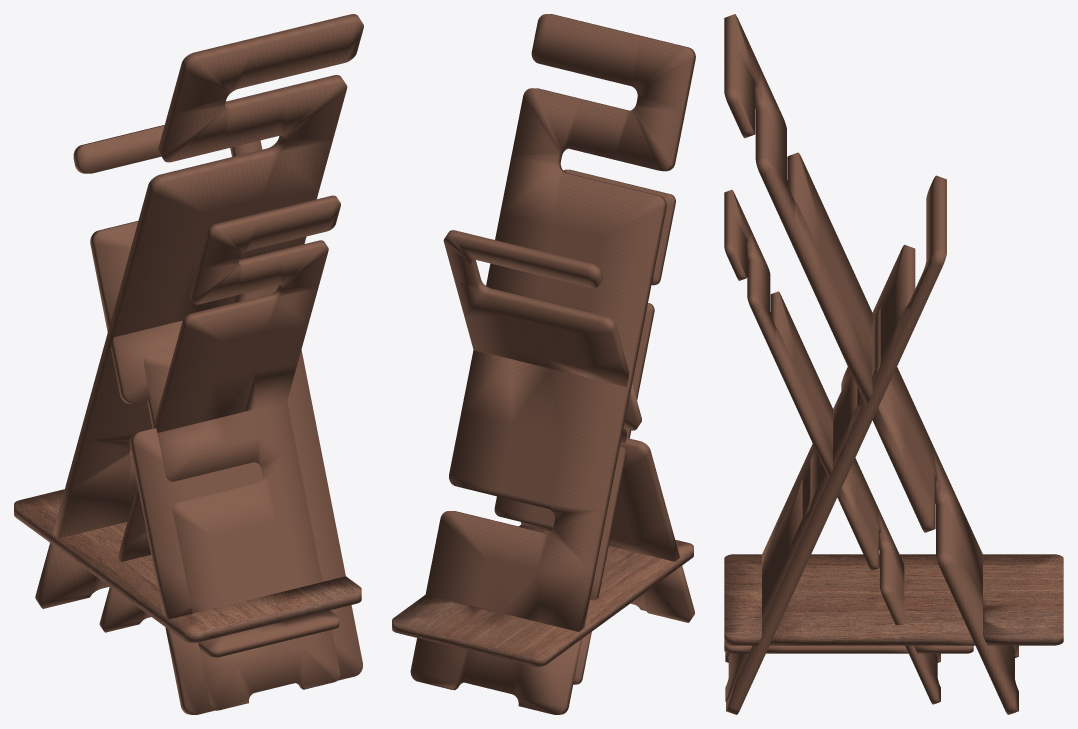
File: panieboze2.glb
The picture shows the model from 3 angles, left to right: view 1: azimuth 30°, elevation 25°; view 2: azimuth 150°, elevation 25°; view 3: azimuth 270°, elevation 25°; orthographic projection. The views are drawn at different scales.
Parts seen in each view (by area): view 1: bake, servomuto obj.001; view 2: bake, servomuto obj.001; view 3: bake, servomuto obj.001.
Boxes of the visible parts, <box> form: bake: <box>14,14,363,714</box>; servomuto obj.001: <box>99,195,340,710</box>; bake: <box>392,14,695,714</box>; servomuto obj.001: <box>494,169,675,684</box>; bake: <box>724,14,1063,714</box>; servomuto obj.001: <box>724,189,973,704</box>.
Size of the model in its own units: 47.64 by 170 by 83.88.
1 material, 1 textured.
